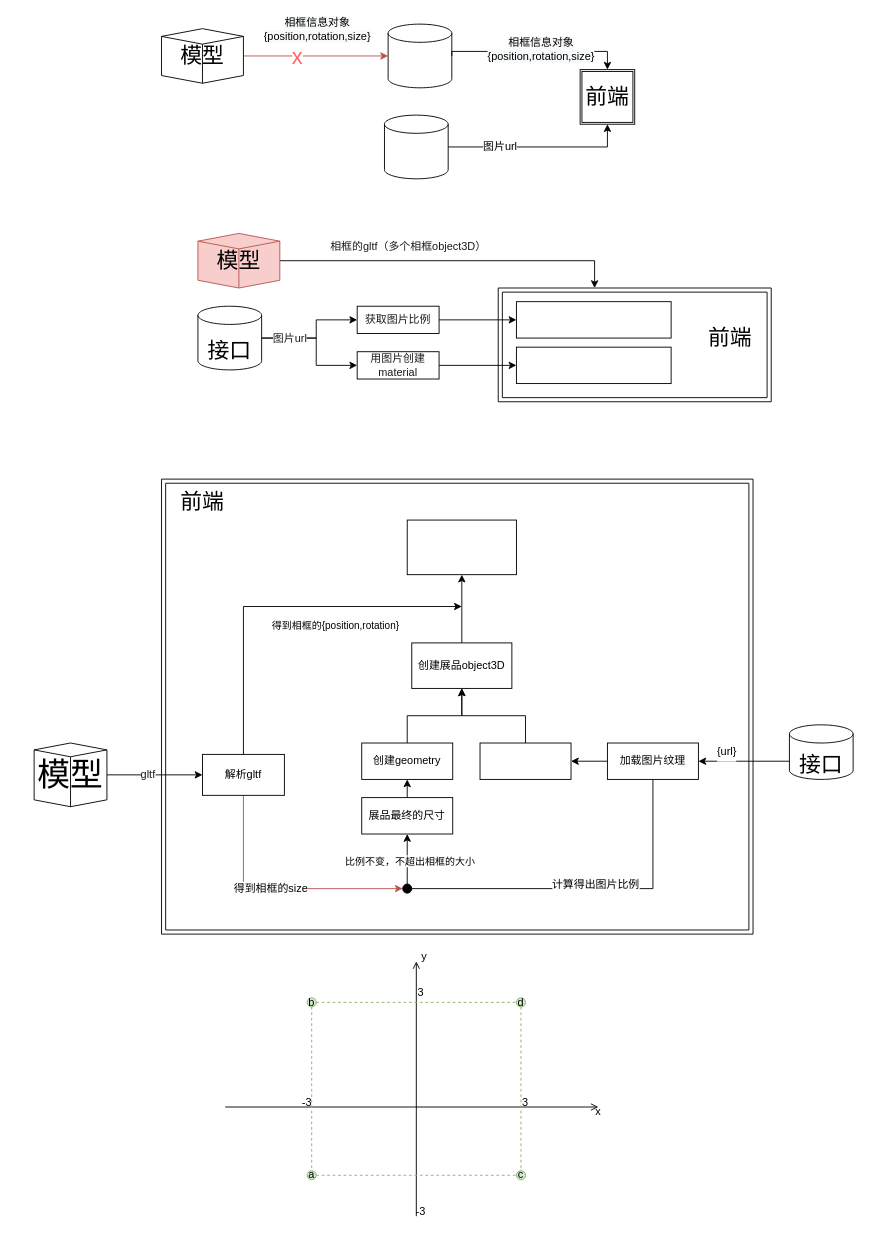
Some shapes in this 869 by 1240 pixel diagram are drawn without their labels. Here are the shapes that lost their labels. From the top down, the centre of each, then its label:
the point at 419,55: 接口1
the point at 416,146: 接口2
the point at 593,319: 根据图片比例缩放geometry
the point at 593,365: 替换原有的material
the point at 461,547: 复用模型中的position和rotation
the point at 525,760: 创建material
